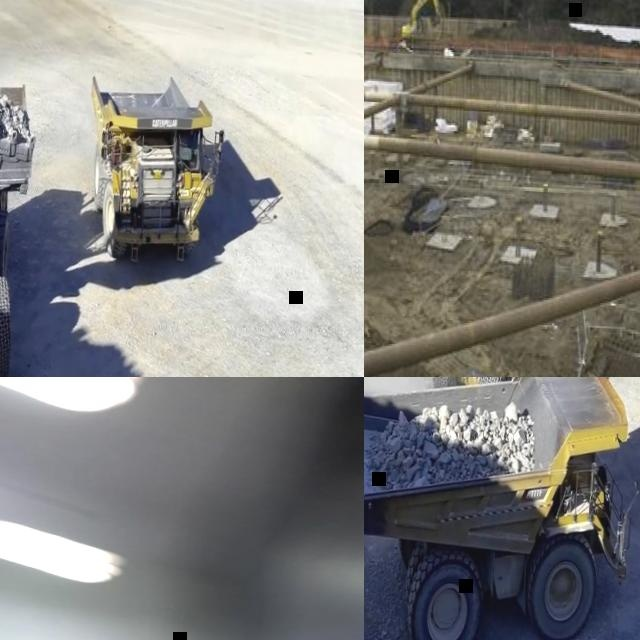machinery: (364, 377, 640, 640), (75, 65, 233, 278), (0, 70, 46, 377), (401, 0, 444, 44)
